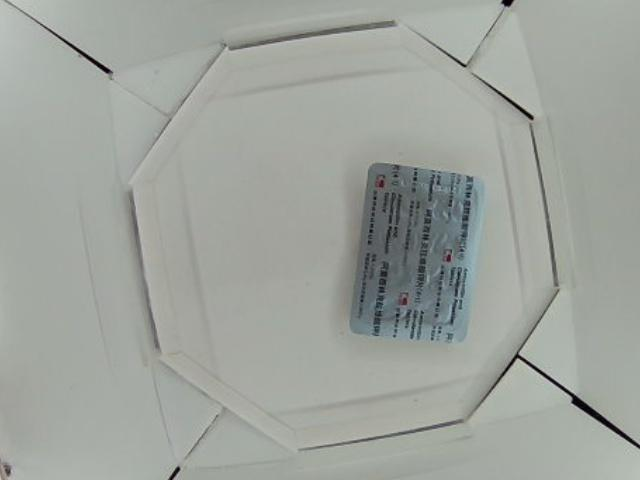Medicine: (347, 161, 485, 346)
